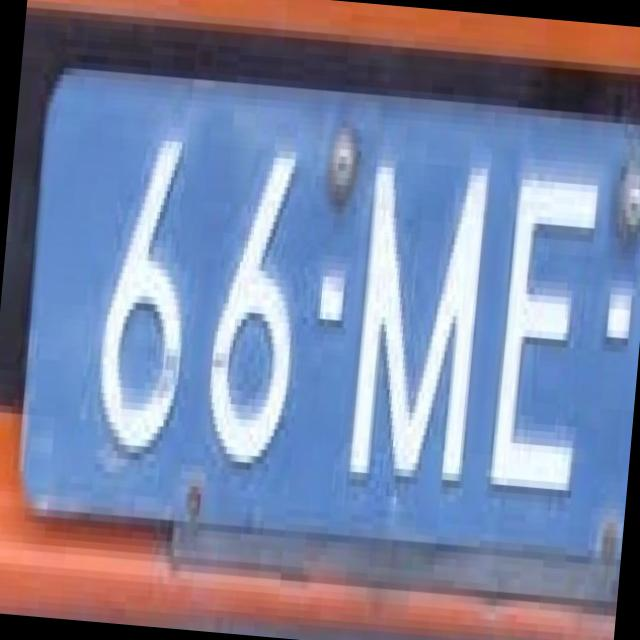LicensePlate: (8, 58, 640, 577)
